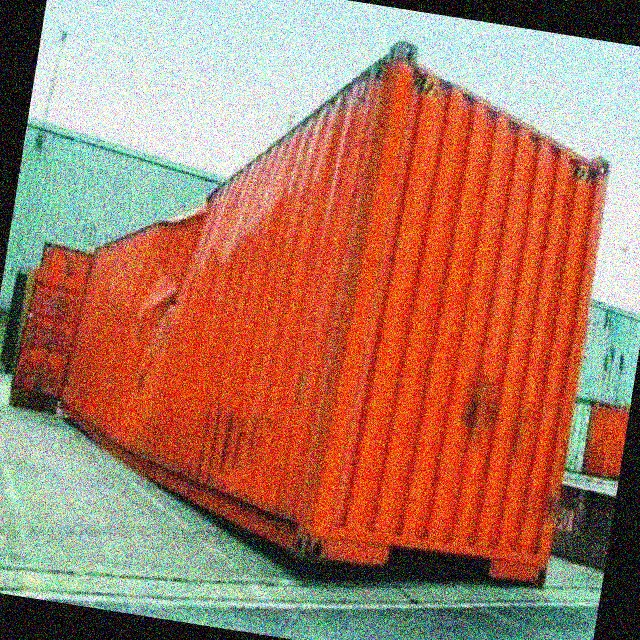Hole: (158, 296, 180, 332)
